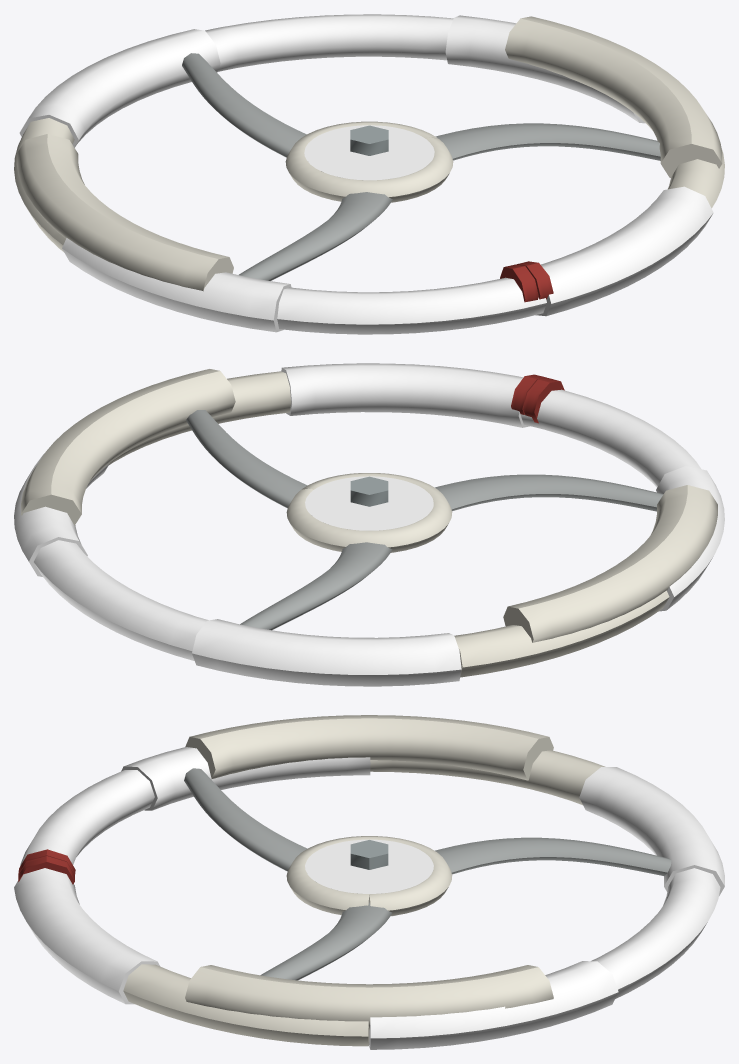
Rendered from Wheel_13_R_黒潮・片流れ.glb.
3 renders of one model, top to bottom at view 1: azimuth 30°, elevation 25°; view 2: azimuth 150°, elevation 25°; view 3: azimuth 270°, elevation 25°, orthographic.
Visible parts, largest first — view 1: Wheel_13_R; view 2: Wheel_13_R; view 3: Wheel_13_R.
Part boxes in pixels (x1,y1,x2,y2): Wheel_13_R: (14, 14, 724, 334); Wheel_13_R: (14, 363, 724, 686); Wheel_13_R: (14, 715, 724, 1049).
Bounding box in the file's own units: 0.326 × 0.0299 × 0.326.
Materials: 4 (4 with a texture image).
